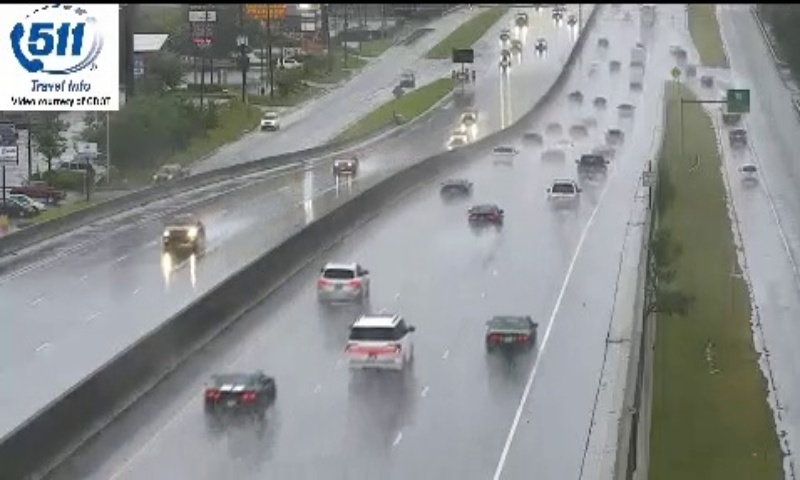car: (348, 314, 411, 369), (204, 373, 277, 415), (316, 262, 369, 304), (485, 315, 537, 351), (468, 204, 504, 231), (548, 180, 579, 209)
